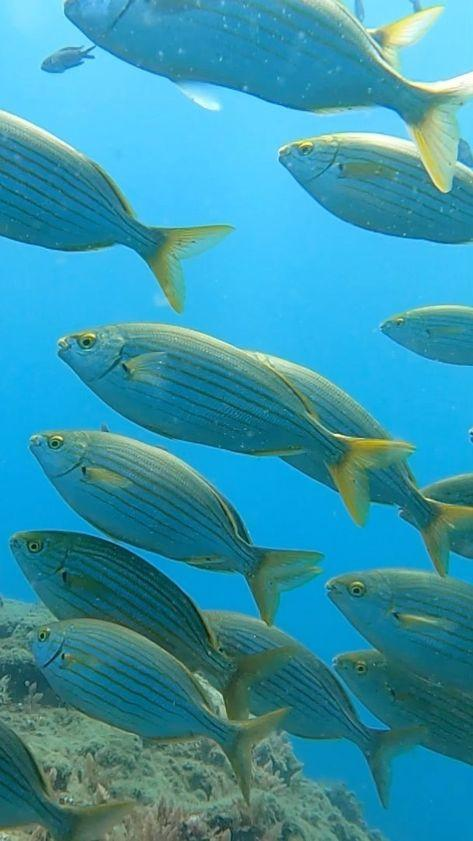fish: (63, 0, 473, 189), (54, 322, 411, 521), (30, 429, 321, 625), (9, 527, 295, 722), (243, 350, 473, 573), (0, 107, 234, 318), (21, 624, 286, 802), (203, 610, 420, 810), (278, 128, 473, 245), (327, 566, 473, 700), (333, 647, 473, 767), (381, 304, 473, 366), (41, 46, 100, 73)
